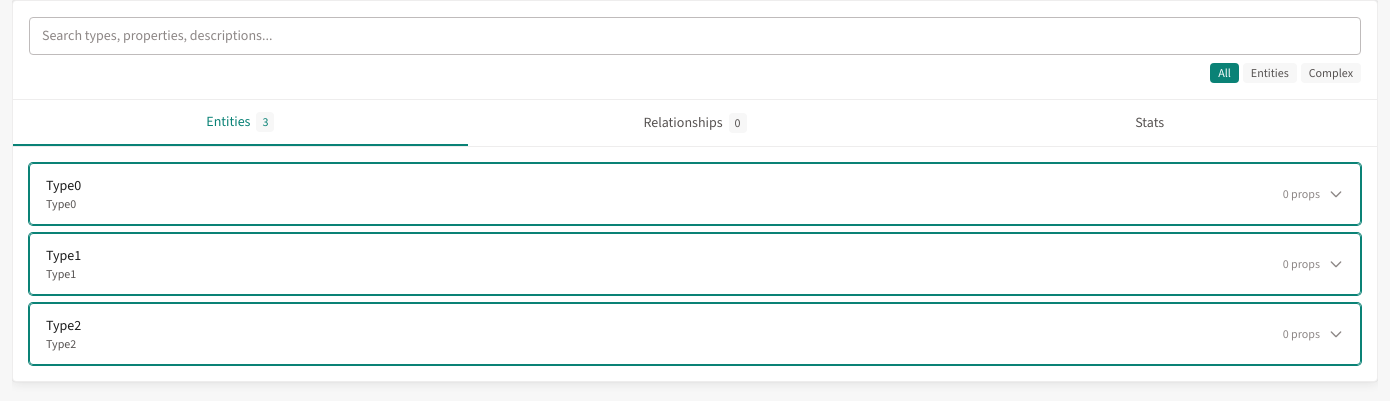
it: MetadataExplorer search › clears the search with the clear button
Type "Type1" into the field named "Search metadata".
click(695, 36); type("Type1")  # box [29,17,1361,55]
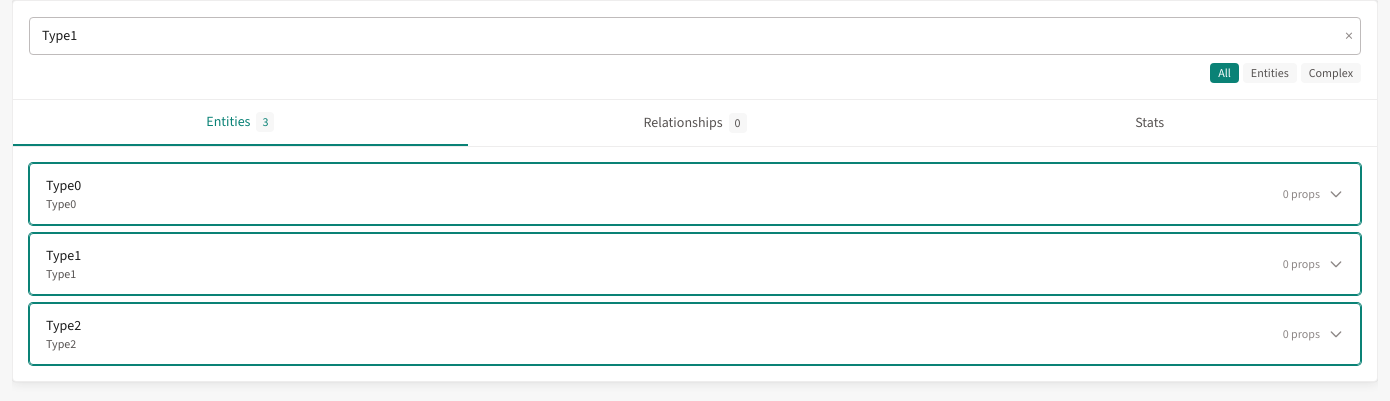
Click the button named "Clear search".
click(1349, 36)  # box [1345,24,1353,48]
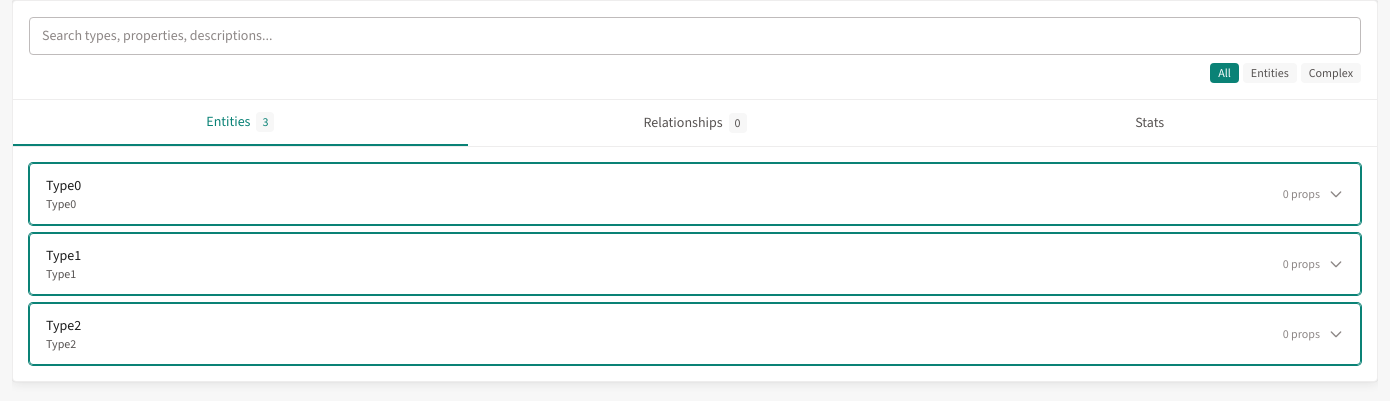
Expected: the field named "Search metadata" is empty, [29,17,1361,55]
